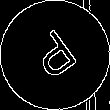P_SE: (25, 24, 85, 86)
